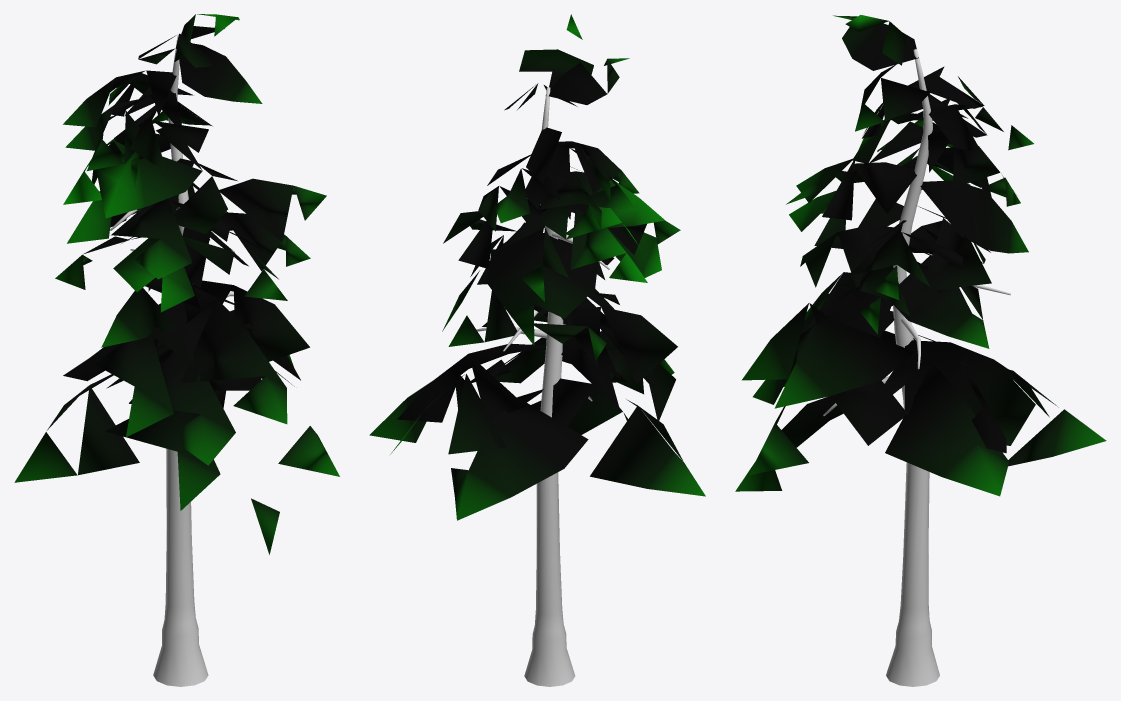
File: tree_1_slim.glb
3 renders of one model, left to right at view 1: azimuth 30°, elevation 25°; view 2: azimuth 150°, elevation 25°; view 3: azimuth 270°, elevation 25°, orthographic. The views are drawn at different scales.
Parts seen in each view (by area): view 1: tree_1_slim; view 2: tree_1_slim; view 3: tree_1_slim.
Part boxes in pixels (left/top/right/bottom): tree_1_slim: left=14, top=14, right=339, bottom=686; tree_1_slim: left=369, top=14, right=705, bottom=686; tree_1_slim: left=735, top=15, right=1106, bottom=686.
Size of the model in its own units: 2.06 by 4.21 by 2.12.
